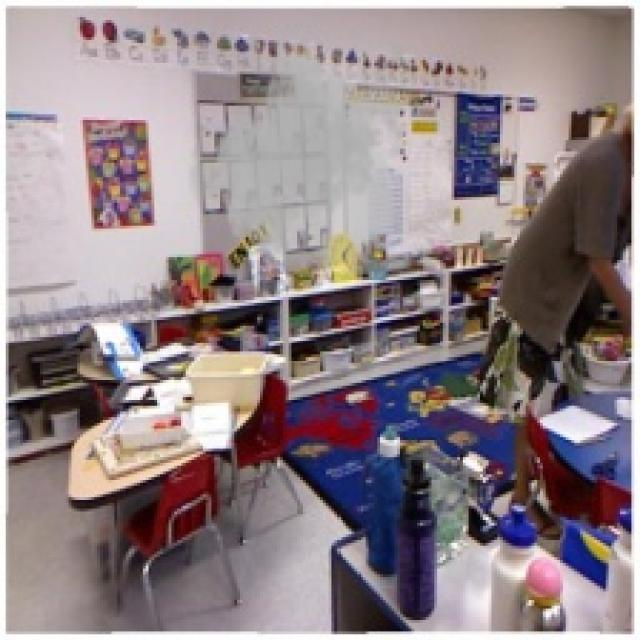smoke: (180, 14, 423, 286)
